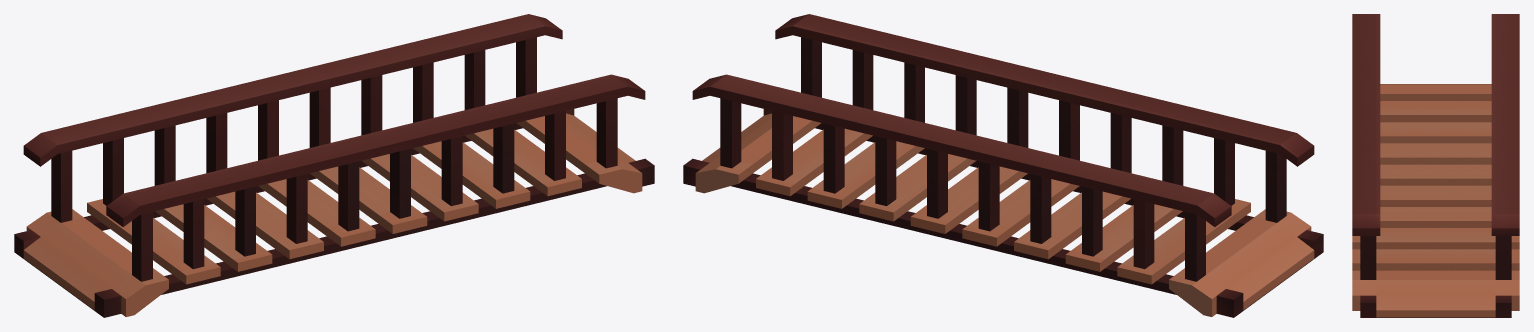
File: bridge.fbx
The picture shows the model from 3 angles, left to right: view 1: azimuth 30°, elevation 25°; view 2: azimuth 150°, elevation 25°; view 3: azimuth 270°, elevation 25°; orthographic projection. The views are drawn at different scales.
Parts seen in each view (by area): view 1: Laipa; view 2: Laipa; view 3: Laipa.
Part boxes in pixels (x1,y1,x2,y2): Laipa: (14,14,654,317); Laipa: (683,14,1323,317); Laipa: (1352,14,1519,317).
Bounding box in the file's own units: 1600 × 300 × 500.
1 material, 1 textured.
